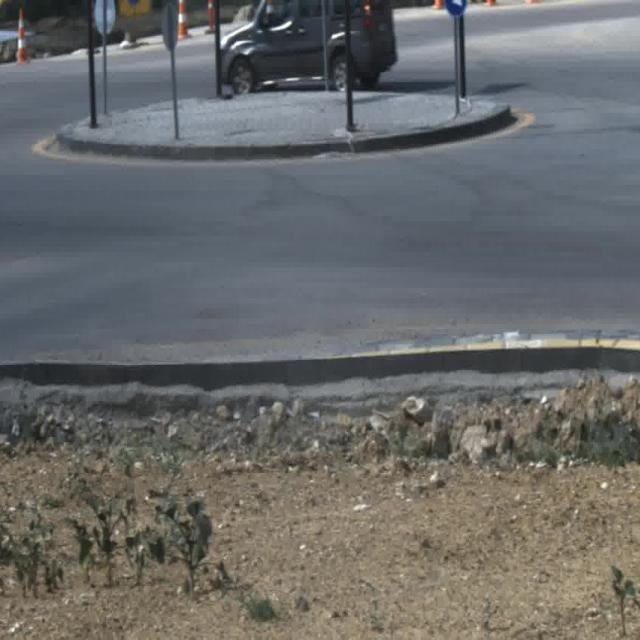Car: (220, 0, 396, 94)
